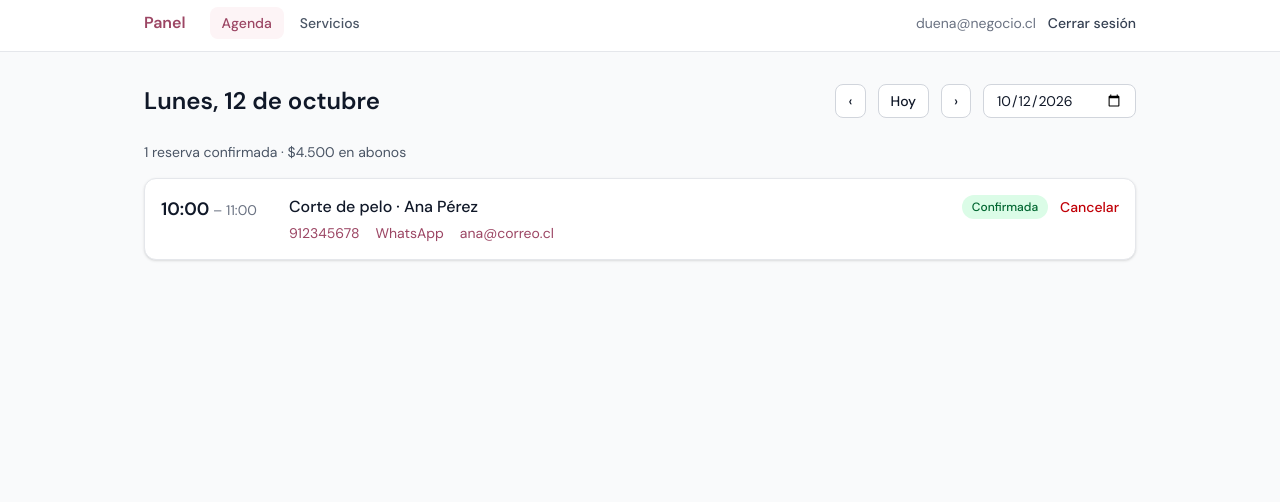
Test: Agenda del panel › si Webpay no puede devolver el abono, lo avisa y permite reintentar
The width and height of the screenshot is (1280, 502).
Click the button "Cancelar" at (1090, 207), box x1=1060 y1=197 x2=1119 y2=217
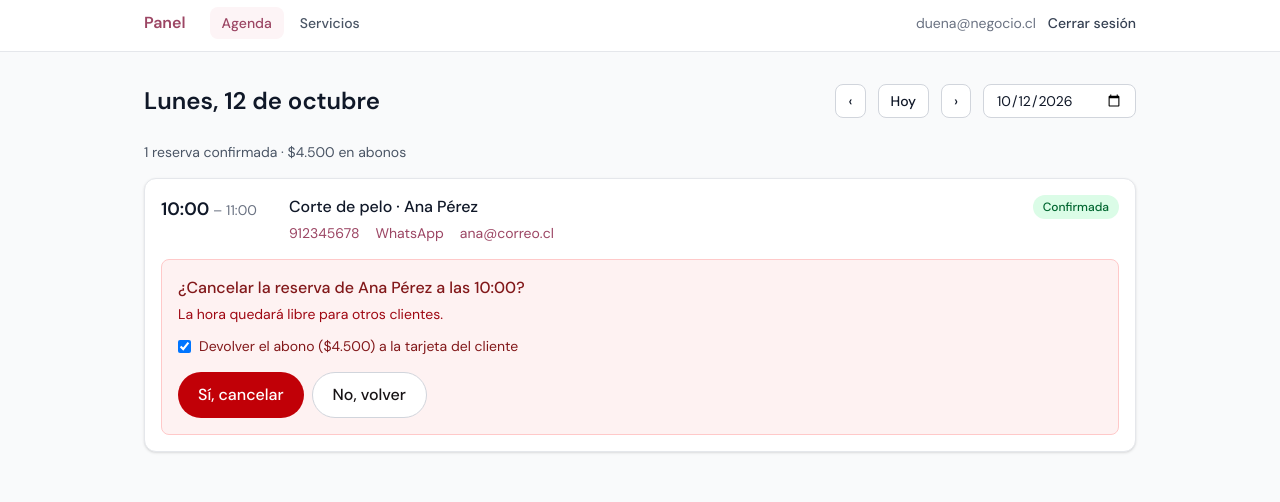
Click the button "Sí, cancelar" at (241, 395), box x1=178 y1=372 x2=304 y2=418
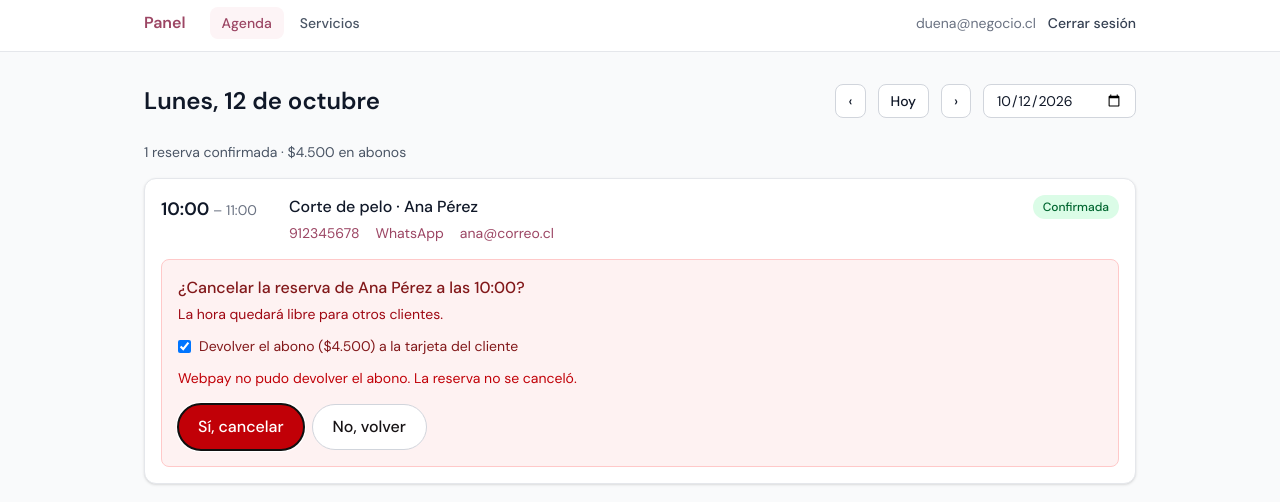
Check: the button "Sí, cancelar" is enabled, box x1=178 y1=404 x2=304 y2=450
Check: the text "Webpay no pudo devolver el abono. La reserva no se canceló." is shown, box x1=178 y1=369 x2=577 y2=387
